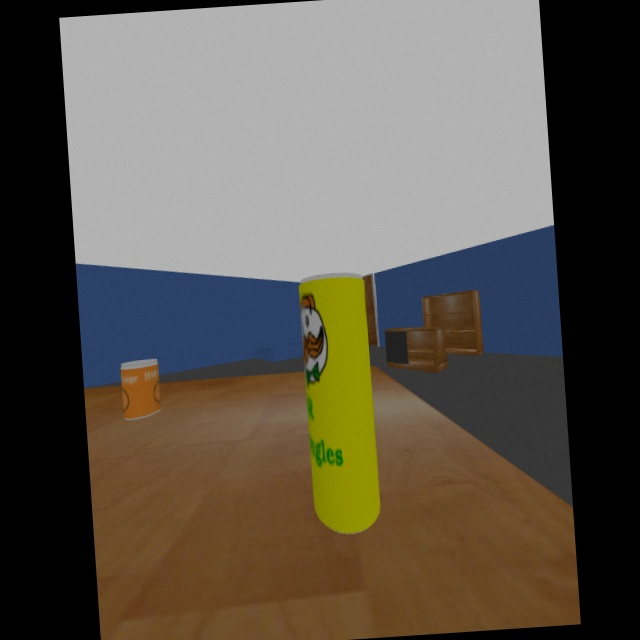chipsdose_gelb: (299, 272, 381, 535)
